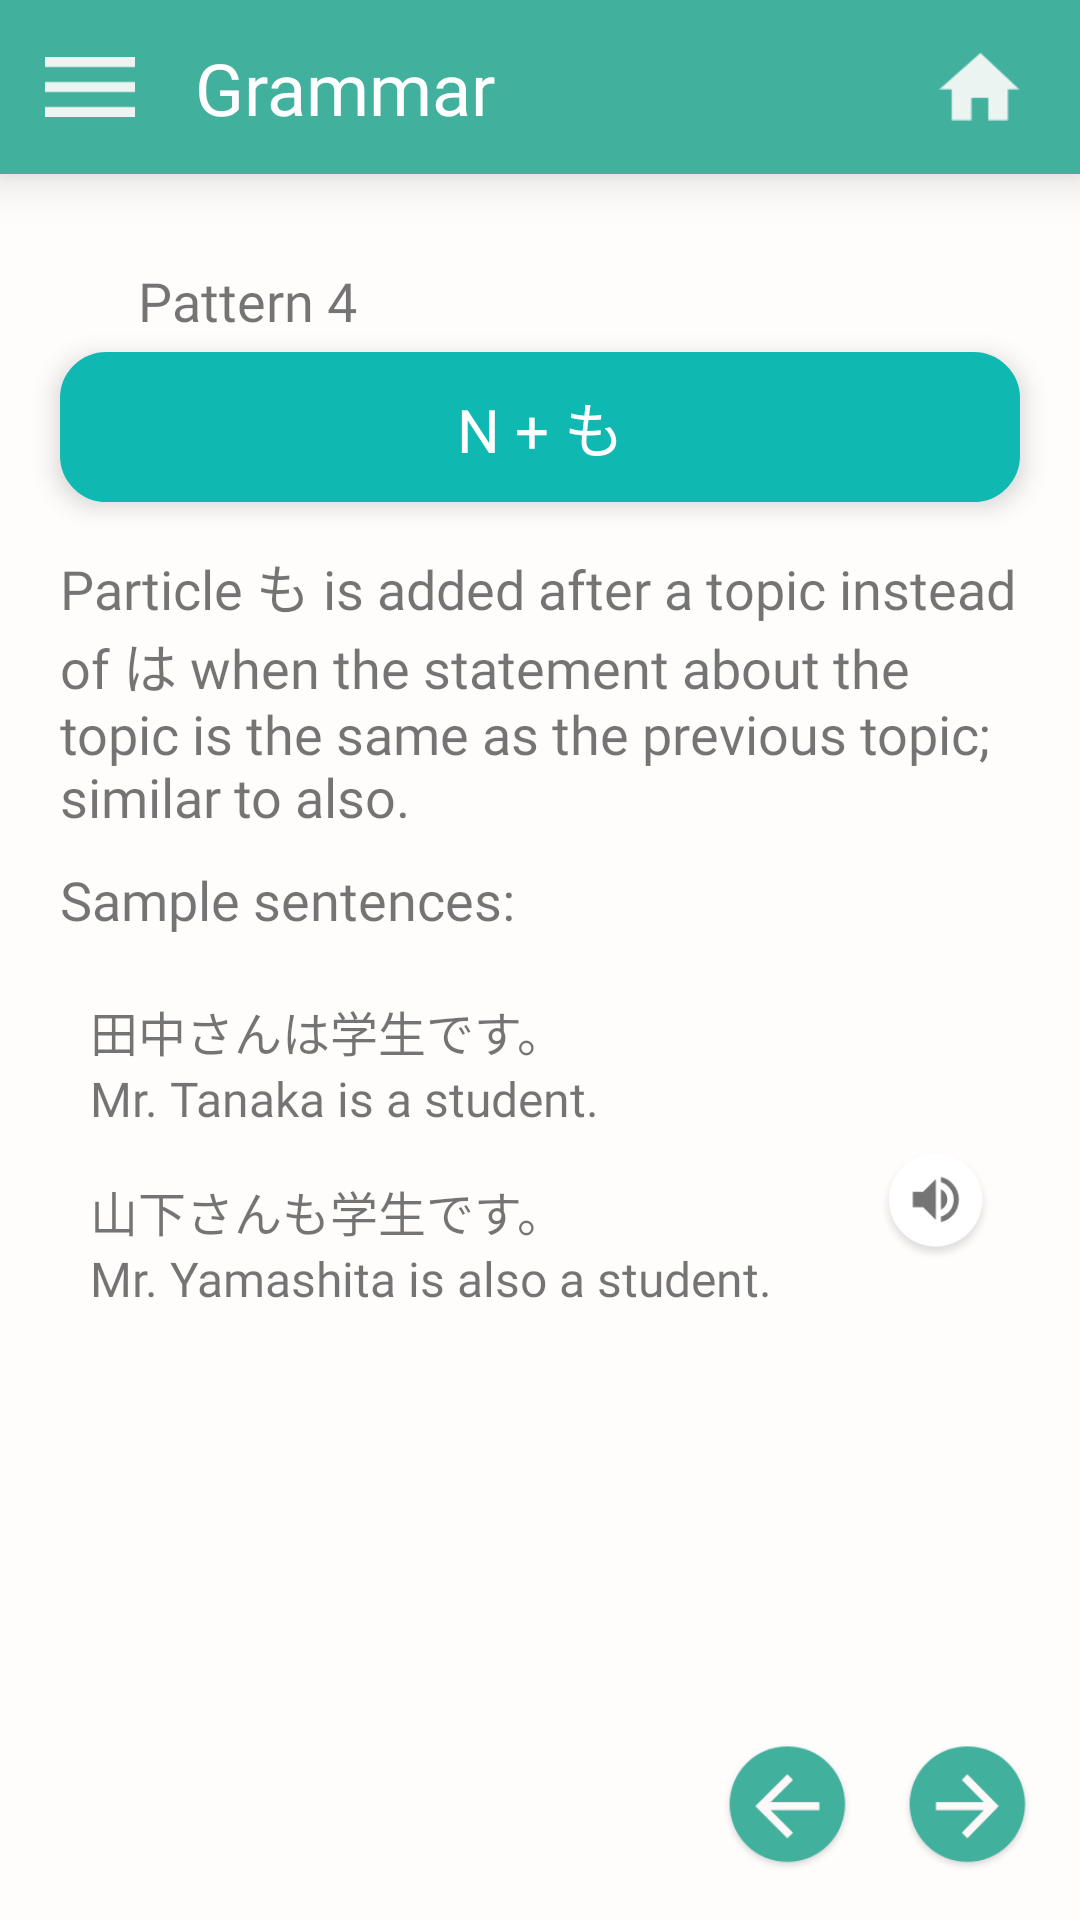

Named icons in this screenshot (1080px×1920px) and their bounding boxes, (x1, y1, x2, y2):
audio grammar: (902, 1177, 971, 1249)
back: (729, 1746, 846, 1864)
forward: (909, 1746, 1026, 1864)
home: (939, 53, 1020, 121)
